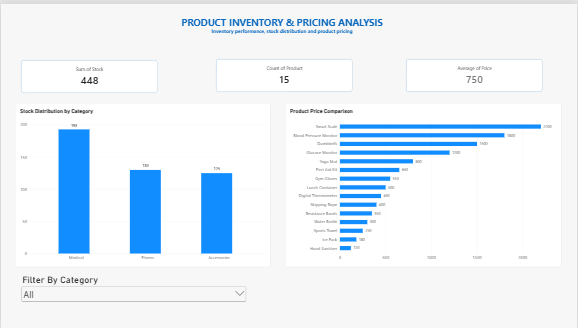

The page's visual inventory and layout, read from the dashboard file:
{"tool":"powerbi","page":{"name":"Page 1","canvas":[1920,1080],"ordinal":0},"visuals":[{"type":"columnChart","title":"Stock Distribution by Category","fields":{"Category":["Products.Category"],"Y":["Sum(Products.Stock)"]},"box":[45.4,330.1,851.7,546.8],"z":0},{"type":"cardVisual","fields":{"Data":["Sum(Products.Stock)"]},"box":[65.5,186.5,455,110],"z":1000},{"type":"cardVisual","fields":{"Data":["Count(Products.Product)"]},"box":[718.1,183.9,455,110],"z":2000},{"type":"cardVisual","fields":{"Data":["Avg(Products.Price)"]},"box":[1350.6,183.9,455,110],"z":3000},{"type":"slicer","fields":{"Values":["Products.Category"]},"box":[63,900,759.3,155.6],"z":4000},{"type":"clusteredBarChart","title":"Product Price Comparison","fields":{"Category":["Products.Product"],"Y":["Sum(Products.Price)"]},"box":[947.4,330.1,922.2,546.8],"z":5000},{"type":"textbox","box":[695.8,12.5,441.7,54.2],"z":6000},{"type":"textbox","box":[821.4,35.3,150,150],"z":6001},{"type":"textbox","box":[204.8,40.5,1495.2,71.4],"z":6002},{"type":"textbox","box":[65,35,1740,100],"z":6003}]}

Visuals, with their boxes in screenshot pixels (x1, y1, x2, y2), scaled from the page's 1920x1080 canvas onto the 578x328 screenshot:
"Stock Distribution by Category" columnChart: bbox(14, 100, 270, 266)
cardVisual - Sum(Products.Stock): bbox(20, 57, 157, 90)
cardVisual - Count(Products.Product): bbox(216, 56, 353, 89)
cardVisual - Avg(Products.Price): bbox(407, 56, 544, 89)
slicer - Products.Category: bbox(19, 273, 248, 321)
"Product Price Comparison" clusteredBarChart: bbox(285, 100, 563, 266)
textbox: bbox(209, 4, 342, 20)
textbox: bbox(247, 11, 292, 56)
textbox: bbox(62, 12, 512, 34)
textbox: bbox(20, 11, 543, 41)
